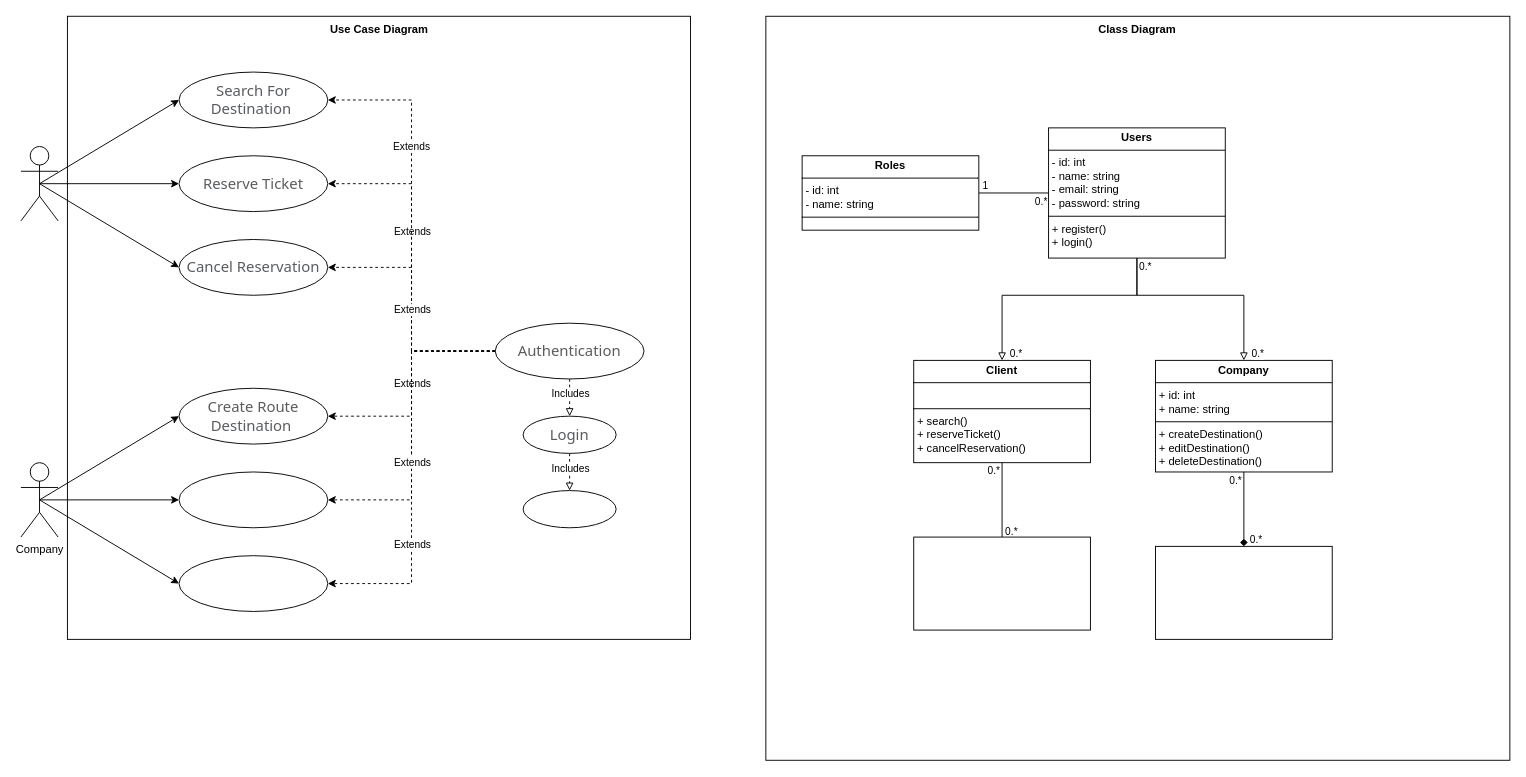
The diagram is 1526 pixels wide and 777 high, and some of its shapes have lost their labels. Here are the shapes that lost their labels. From the top down, the centre of each, then its label:
At (39,183): "Client".
At (253,499): "Edit Route Destination".
At (569,509): "Register".
At (253,583): "Delete Route Destination".
At (1001,583): "Ticket + id: int + title: string + price: float".
At (1243,592): "Annonce + id: int + title: string + price: float".
